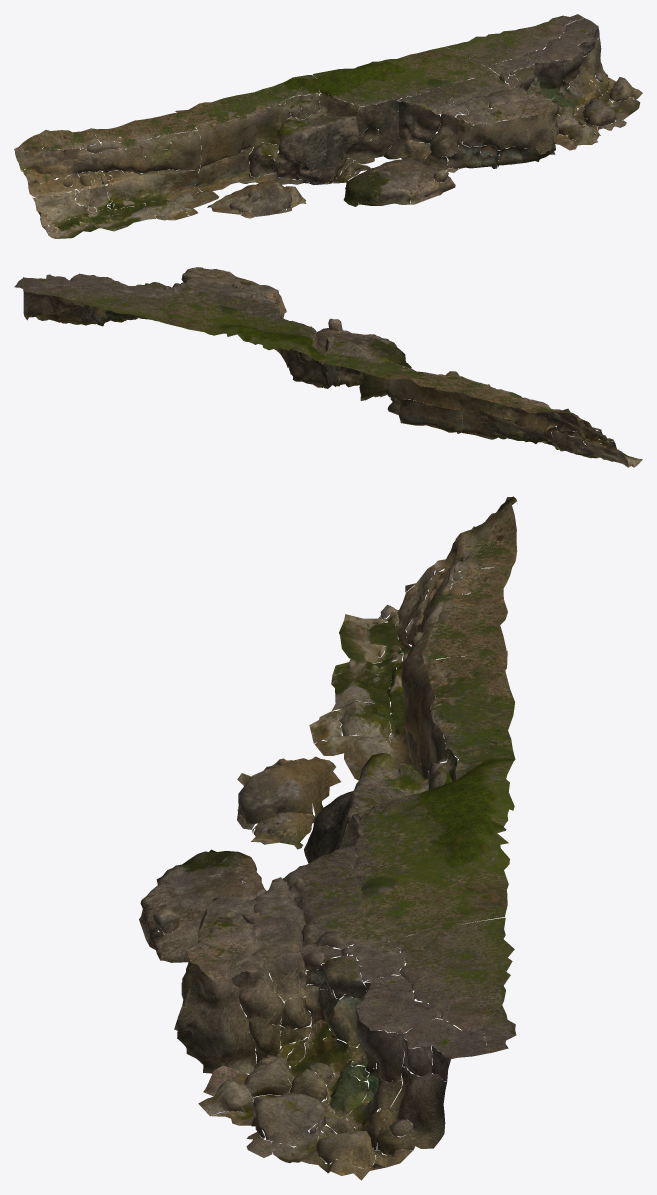
File: coastal_cliff_04_lod0.glb
3 renders of one model, top to bottom at view 1: azimuth 30°, elevation 25°; view 2: azimuth 150°, elevation 25°; view 3: azimuth 270°, elevation 25°, orthographic. The views are drawn at different scales.
Visible parts, largest first — view 1: coastal_cliff_04.001; view 2: coastal_cliff_04.001; view 3: coastal_cliff_04.001.
Part boxes in pixels (left/top/right/bottom): coastal_cliff_04.001: left=14, top=14, right=642, bottom=238; coastal_cliff_04.001: left=14, top=267, right=642, bottom=467; coastal_cliff_04.001: left=139, top=496, right=517, bottom=1180.
Bounding box in the file's own units: 21.99 × 2.8 × 6.14.
1 material, 1 textured.
